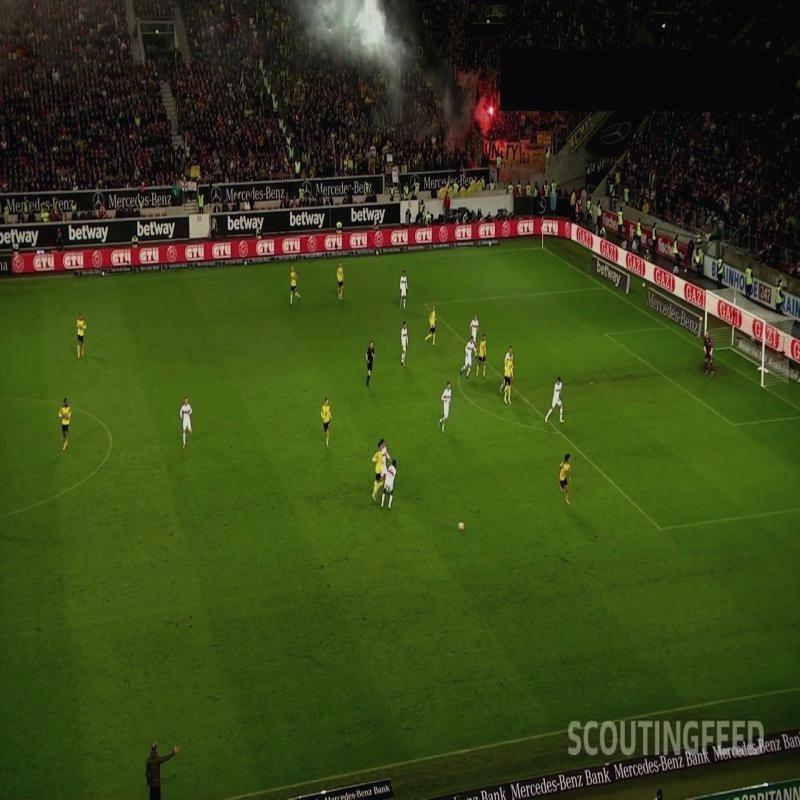1: (536, 241, 550, 255)
10: (474, 350, 488, 364)
11: (554, 426, 568, 440)
12: (653, 523, 667, 537)
2: (598, 279, 612, 293)
3: (660, 319, 674, 333)
7: (600, 326, 614, 340)
8: (727, 417, 741, 431)
9: (419, 296, 434, 310)
c: (104, 432, 118, 446)
